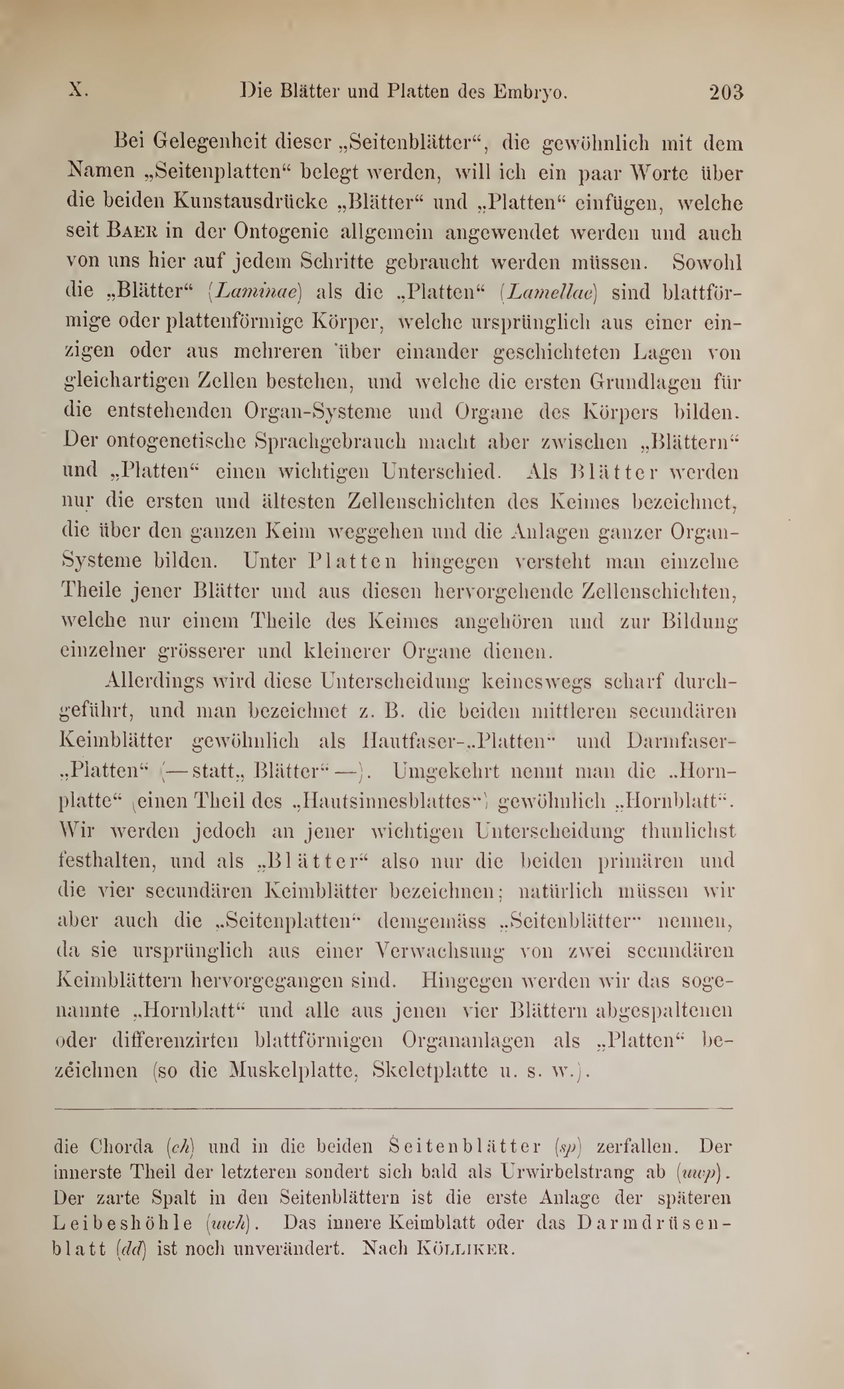MainZone: (43, 116, 762, 1100)
MarginTextZone note: (40, 1125, 761, 1283)
NumberingZone chapter: (53, 63, 99, 110)
NumberingZone_page: (694, 63, 760, 119)
RunningTitleZone: (226, 63, 597, 120)
